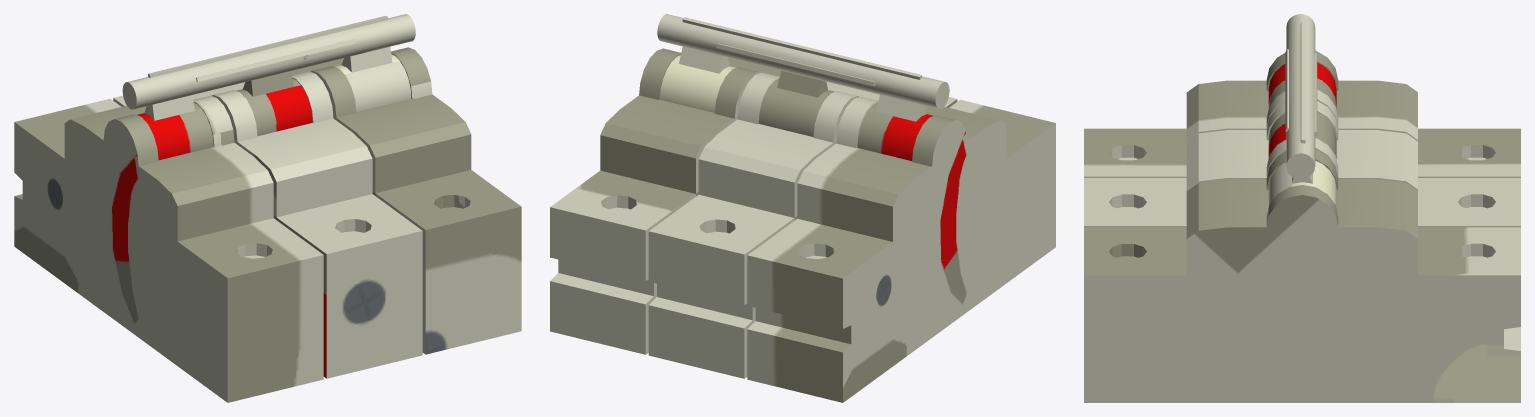
Rendered from Breaker_switch.fbx.
3 views of the same model, side by side, from view 1: azimuth 30°, elevation 25°; view 2: azimuth 150°, elevation 25°; view 3: azimuth 270°, elevation 25° (orthographic). The views are drawn at different scales.
Visible parts, largest first — view 1: FlipSwitch, FlipSwitcher_001; view 2: FlipSwitch, FlipSwitcher_001; view 3: FlipSwitch, FlipSwitcher_001.
Boxes of the visible parts, x1=… form: FlipSwitch: x1=14, y1=47, x2=521, y2=402; FlipSwitcher_001: x1=122, y1=14, x2=415, y2=160; FlipSwitch: x1=550, y1=48, x2=1055, y2=402; FlipSwitcher_001: x1=657, y1=14, x2=949, y2=160; FlipSwitch: x1=1084, y1=50, x2=1520, y2=402; FlipSwitcher_001: x1=1268, y1=14, x2=1336, y2=208.
Bounding box in the file's own units: 24.67 × 19.55 × 31.03.
1 material, 1 textured.
